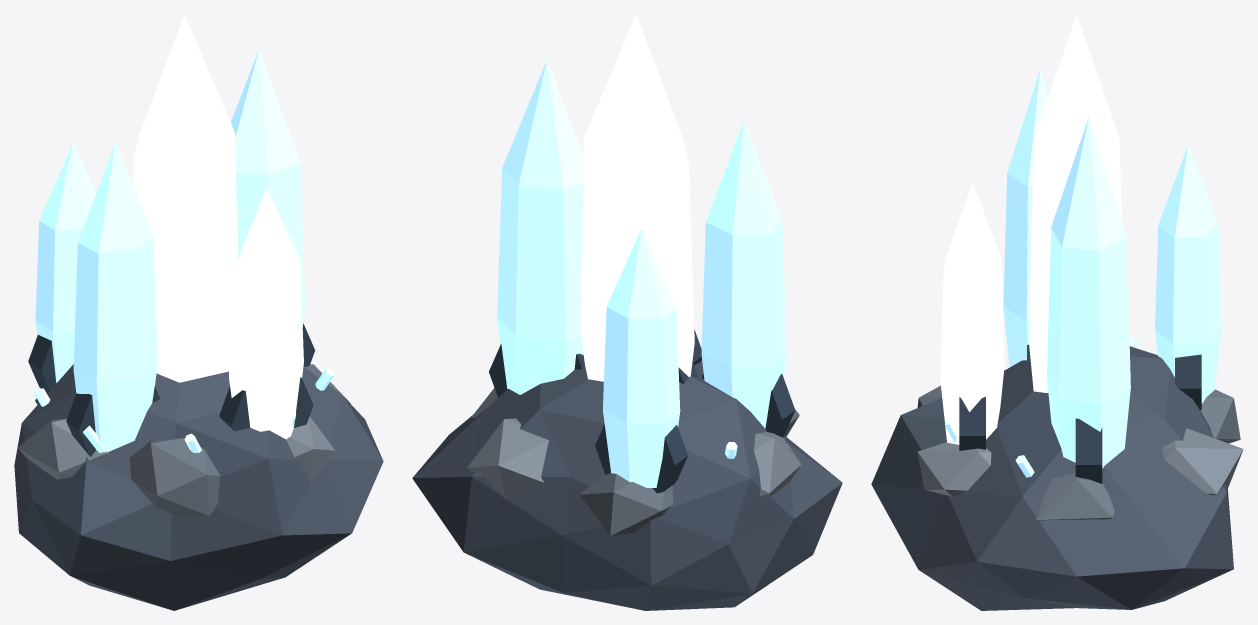
File: ore_Prometid.glb
3 views of the same model, side by side, from view 1: azimuth 30°, elevation 25°; view 2: azimuth 150°, elevation 25°; view 3: azimuth 270°, elevation 25° (orthographic). The views are drawn at different scales.
Visible parts, largest first — view 1: root_fractured_asteroid, crystal_main_0, crystal_main_1, crystal_main_3, crystal_main_2, crystal_main_4, rock_armor_2, rock_armor_3, rock_armor_1, crystal_socket_3, crystal_socket_1, crystal_socket_4; view 2: root_fractured_asteroid, crystal_main_0, crystal_main_2, crystal_main_1, crystal_main_4, rock_armor_5, rock_armor_4, rock_armor_3, crystal_socket_4, crystal_socket_1, crystal_socket_2; view 3: root_fractured_asteroid, crystal_main_2, crystal_main_0, crystal_main_3, crystal_main_4, crystal_main_1, rock_armor_5, rock_armor_1, rock_armor_0, crystal_socket_2, rock_armor_4, crystal_socket_3 (+1 smaller).
Part boxes in pixels (x1,y1,x2,y2): root_fractured_asteroid: [14, 364, 383, 610]; crystal_main_0: [133, 14, 238, 382]; crystal_main_1: [73, 142, 157, 451]; crystal_main_3: [229, 188, 303, 439]; crystal_main_2: [230, 50, 305, 326]; crystal_main_4: [35, 143, 96, 382]; rock_armor_2: [129, 437, 220, 516]; rock_armor_3: [18, 418, 108, 479]; rock_armor_1: [286, 416, 335, 481]; crystal_socket_3: [219, 377, 313, 431]; crystal_socket_1: [66, 386, 160, 456]; crystal_socket_4: [28, 335, 56, 393]; root_fractured_asteroid: [412, 360, 842, 610]; crystal_main_0: [580, 14, 694, 381]; crystal_main_2: [497, 60, 583, 394]; crystal_main_1: [701, 121, 786, 428]; crystal_main_4: [603, 228, 680, 487]; rock_armor_5: [467, 418, 548, 499]; rock_armor_4: [580, 473, 672, 535]; rock_armor_3: [754, 432, 801, 496]; crystal_socket_4: [595, 424, 687, 493]; crystal_socket_1: [701, 373, 795, 437]; crystal_socket_2: [489, 344, 584, 397]; root_fractured_asteroid: [871, 346, 1233, 610]; crystal_main_2: [1047, 117, 1130, 468]; crystal_main_0: [1029, 14, 1121, 392]; crystal_main_3: [940, 182, 1004, 444]; crystal_main_4: [1155, 145, 1221, 403]; crystal_main_1: [1003, 69, 1048, 367]; rock_armor_5: [1161, 428, 1243, 495]; rock_armor_1: [917, 442, 991, 496]; rock_armor_0: [1010, 473, 1114, 520]; crystal_socket_2: [1075, 418, 1102, 483]; rock_armor_4: [1200, 389, 1240, 443]; crystal_socket_3: [959, 396, 985, 450].
Size of the model in its own units: 1.66 by 2.61 by 1.54.
